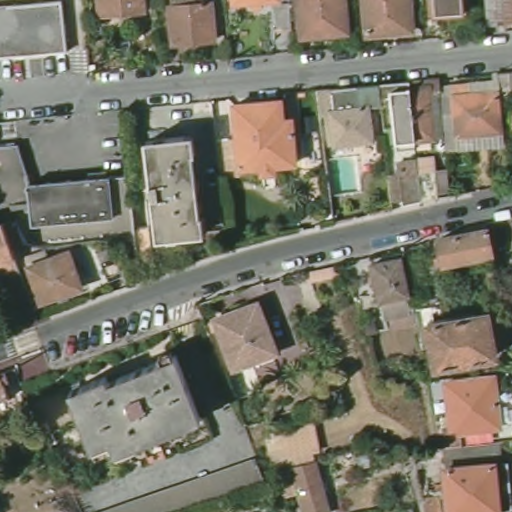pool: (322, 152, 368, 198)
